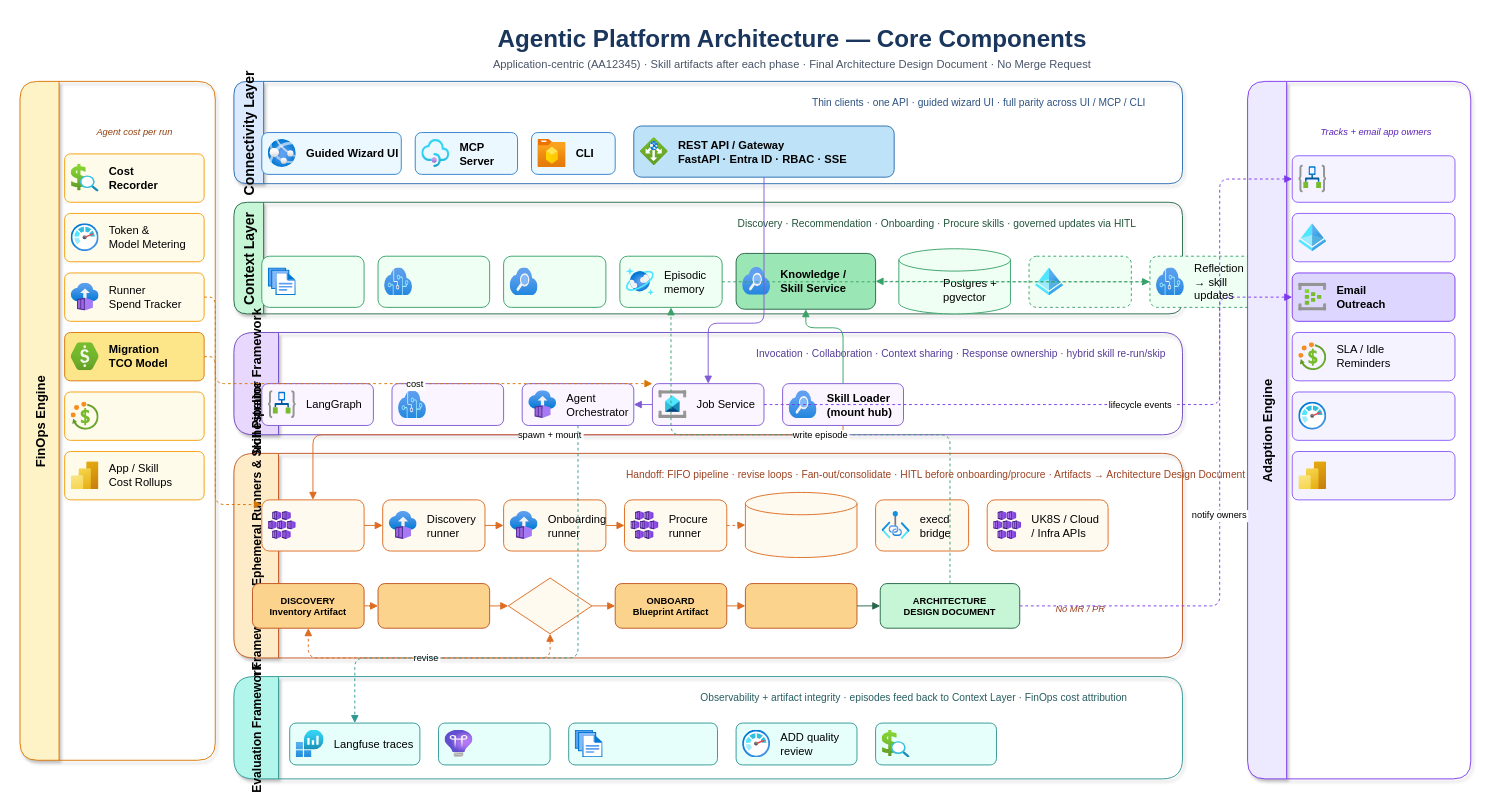
Some shapes in this 1493 by 808 pixel diagram are drawn without their labels. Each missing label, with the centre of its shape:
"Agentic Framework Skills (SKILL.md)" belongs at [312,281].
"App Insights" belongs at [494,743].
"App Owner Contacts" belongs at [1373,237].
"Artifact integrity / completeness" belongs at [642,743].
"Artifact workspace" belongs at [800,525].
"Budget & Alerts" belongs at [134,415].
"Cost per run attribution" belongs at [935,743].
"Deep Agents" belongs at [447,404].
"Email Event Audit" belongs at [1373,475].
"Engagement Tracks" belongs at [1373,178].
"EoL Urgency Nudges" belongs at [1373,415].
"HITL approve" belongs at [549,605].
"Langfuse Skill Registry" belongs at [433,281].
"PROCURE Manifest Artifact" belongs at [800,605].
"RECOMMEND Readiness Artifact" belongs at [433,605].
"Sandbox Provisioner" belongs at [312,525].
"Semantic memory" belongs at [554,281].
"Skill-review HITL" belongs at [1079,281].
